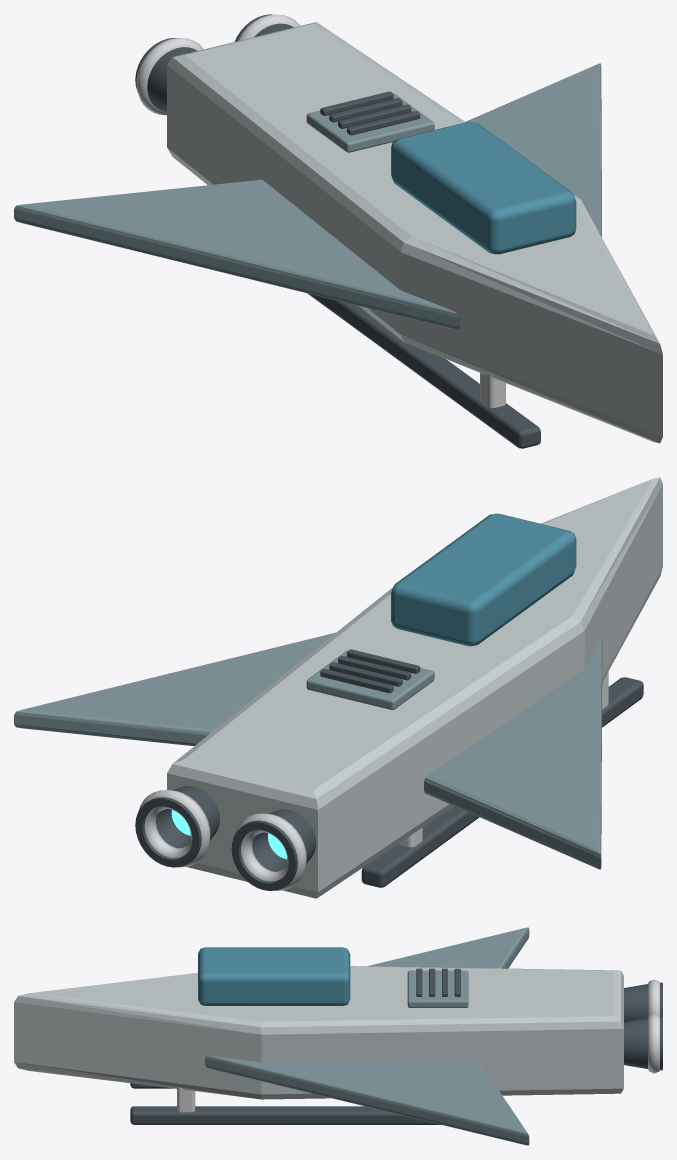
3 views of the same model, one above another, from view 1: azimuth 30°, elevation 25°; view 2: azimuth 150°, elevation 25°; view 3: azimuth 270°, elevation 25° (orthographic). The views are drawn at different scales.
Visible parts, largest first — view 1: fighter; view 2: fighter; view 3: fighter.
Boxes of the visible parts, bbox=[...] form: fighter: bbox=[14, 14, 662, 448]; fighter: bbox=[14, 477, 662, 898]; fighter: bbox=[14, 927, 662, 1145].
Bounding box in the file's own units: 4.03 × 1.3 × 5.31.
